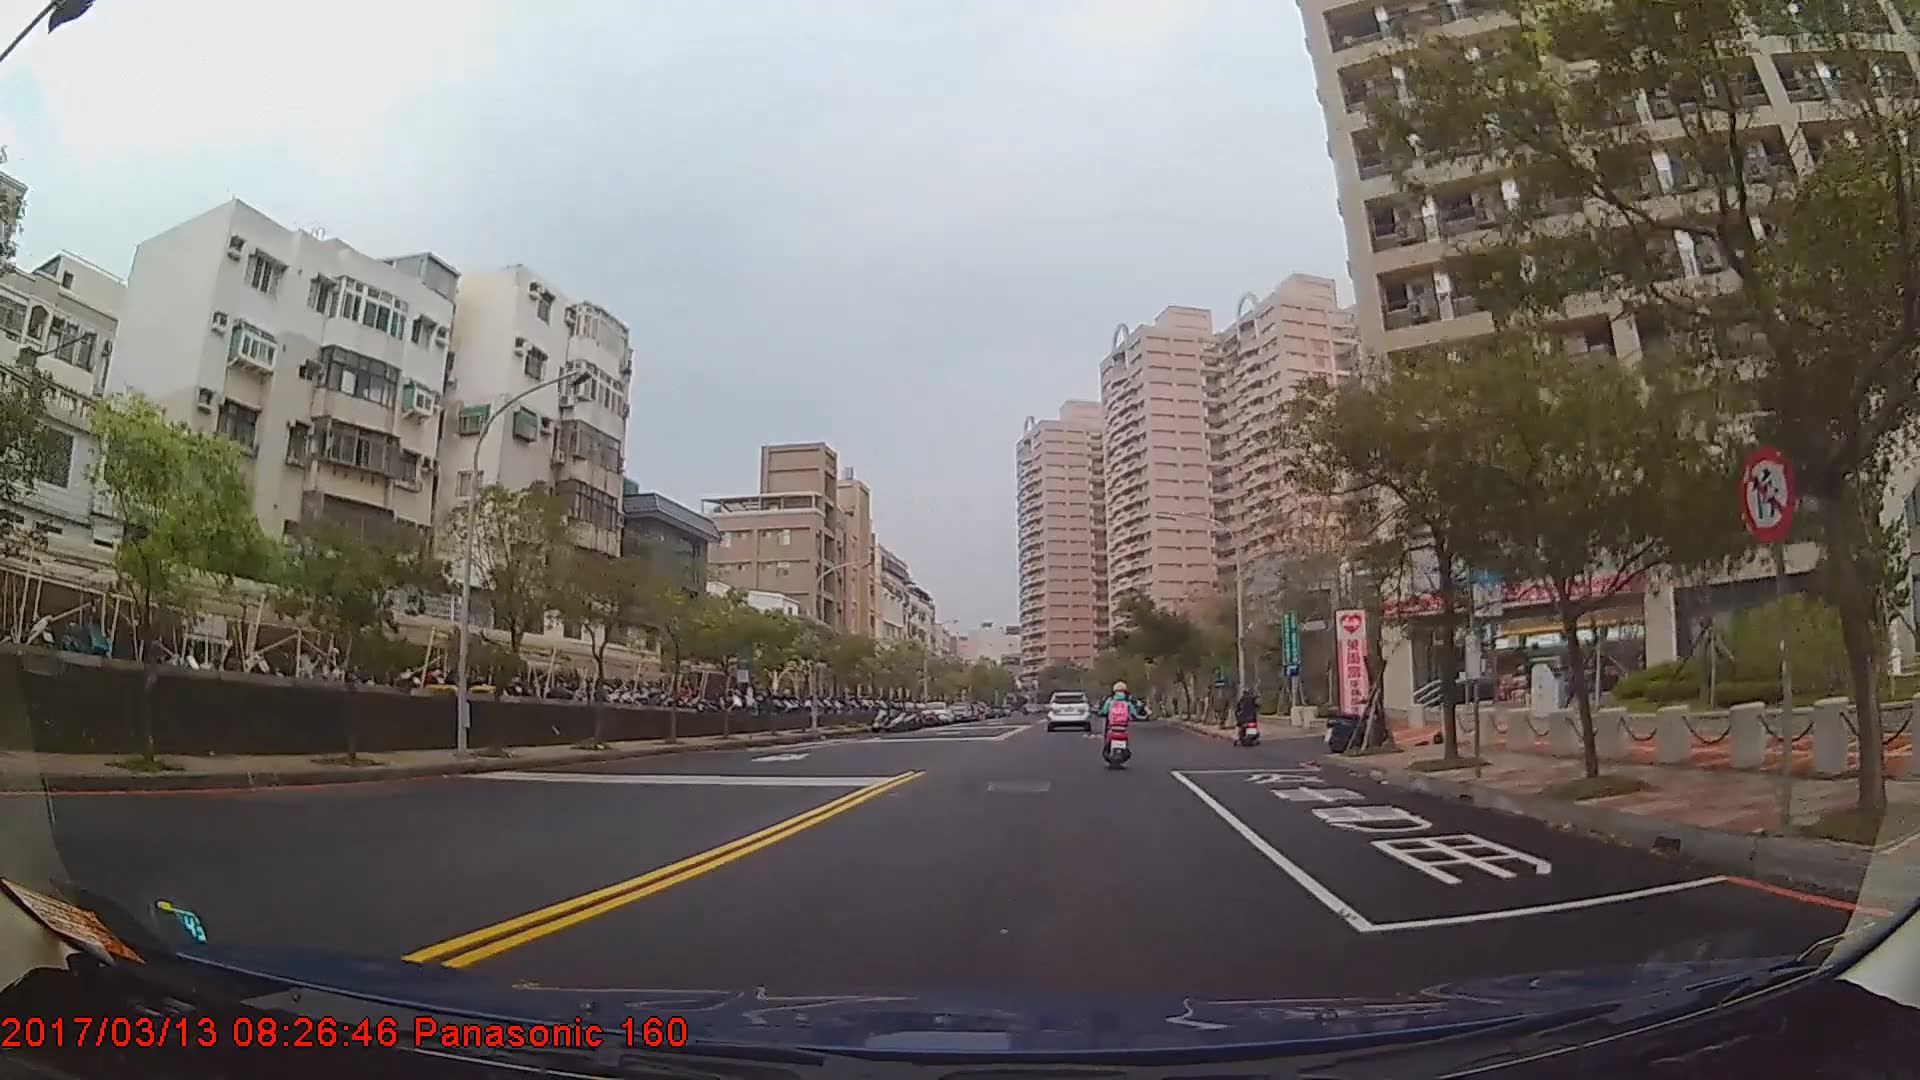rider: (1099, 679, 1141, 762), (1234, 688, 1260, 748)
vehicle: (1043, 688, 1092, 732)
